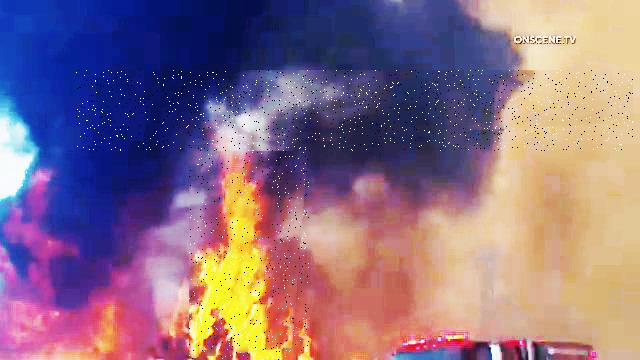fire: (189, 151, 309, 360)
smoke: (76, 70, 633, 151)
